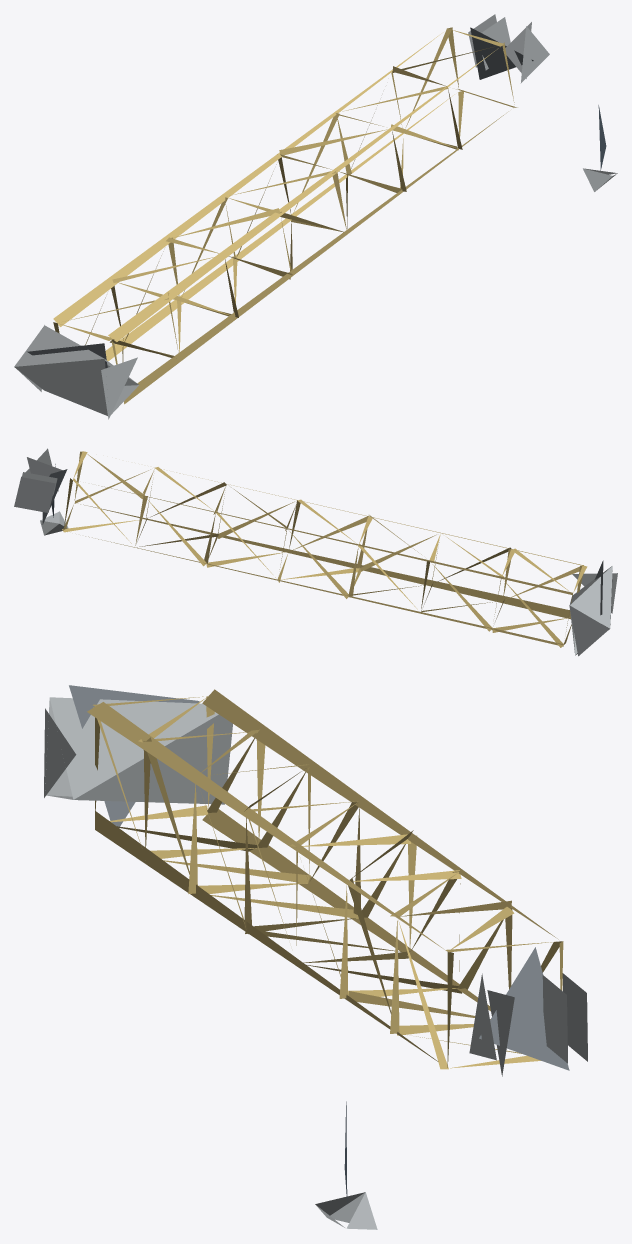
The picture shows the model from 3 angles, top to bottom: view 1: azimuth 30°, elevation 25°; view 2: azimuth 150°, elevation 25°; view 3: azimuth 270°, elevation 25°; orthographic projection. The views are drawn at different scales.
Visible parts, largest first — view 1: sea_crane_arm.001; view 2: sea_crane_arm.001; view 3: sea_crane_arm.001.
Boxes of the visible parts, box(x1,y1,x2,y2) form: sea_crane_arm.001: box(14, 14, 617, 419); sea_crane_arm.001: box(14, 448, 617, 656); sea_crane_arm.001: box(44, 685, 587, 1229).
Size of the model in its own units: 6.96 by 1.77 by 3.07.
